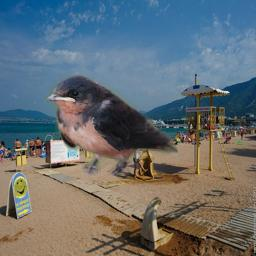Swallow: (45, 74, 178, 176)
